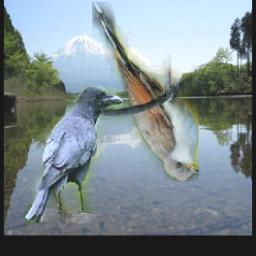Crow: (26, 87, 124, 224)
Cuckoo: (92, 2, 199, 181)
